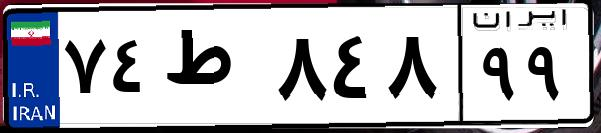4: (330, 28, 385, 110), (110, 28, 158, 98)
7: (57, 26, 110, 100)
8: (270, 28, 330, 110), (385, 28, 445, 110)
9: (475, 38, 525, 113), (525, 38, 570, 115)
ط: (158, 20, 270, 120)
